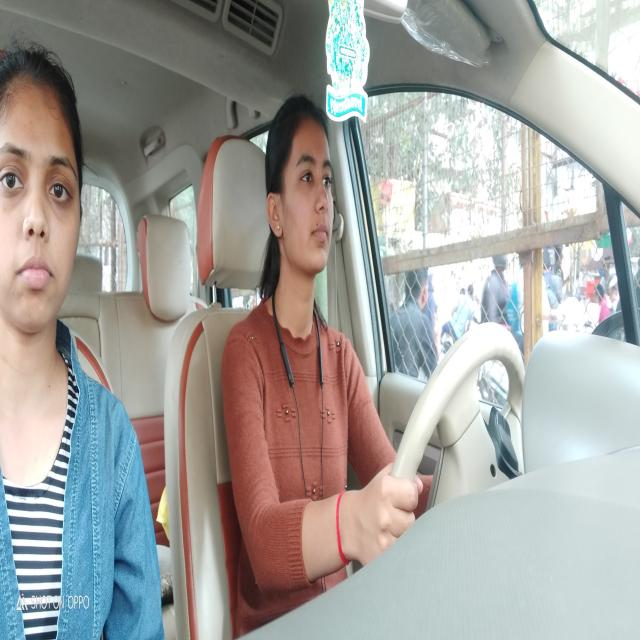person: (0, 34, 86, 338), (265, 87, 339, 296)
